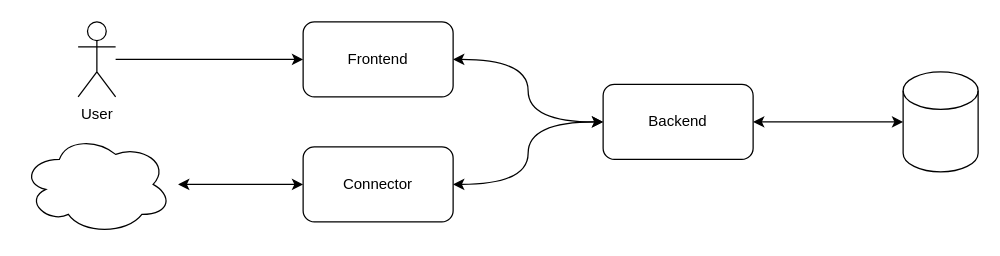
This 1000x256 diagram has some shape labels left out. The shapes that lost their labels are listed below. From the top down, each one's centre as x and y in pixels, then its label:
At (940,121): "Database".
At (96,183): "Device".
